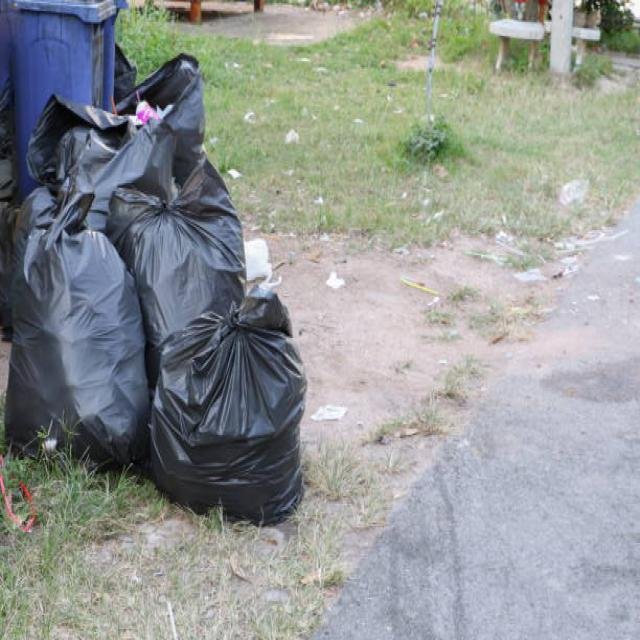Trashbag: (13, 247, 164, 458), (158, 320, 305, 520), (43, 68, 208, 218), (131, 190, 241, 330)
